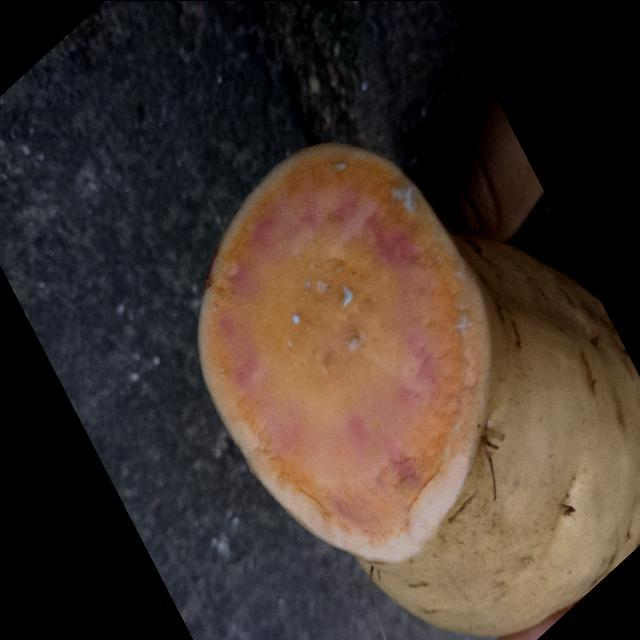Healthy Sweet Potato: (199, 143, 489, 562)
